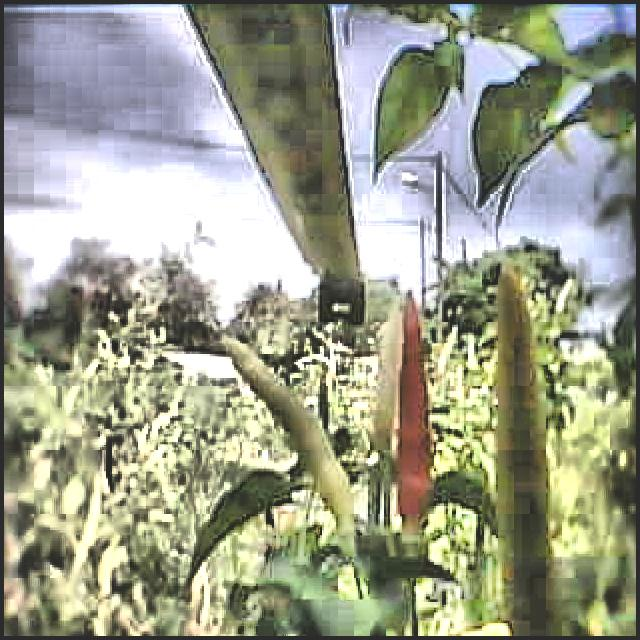Cabai: (394, 291, 441, 526)
